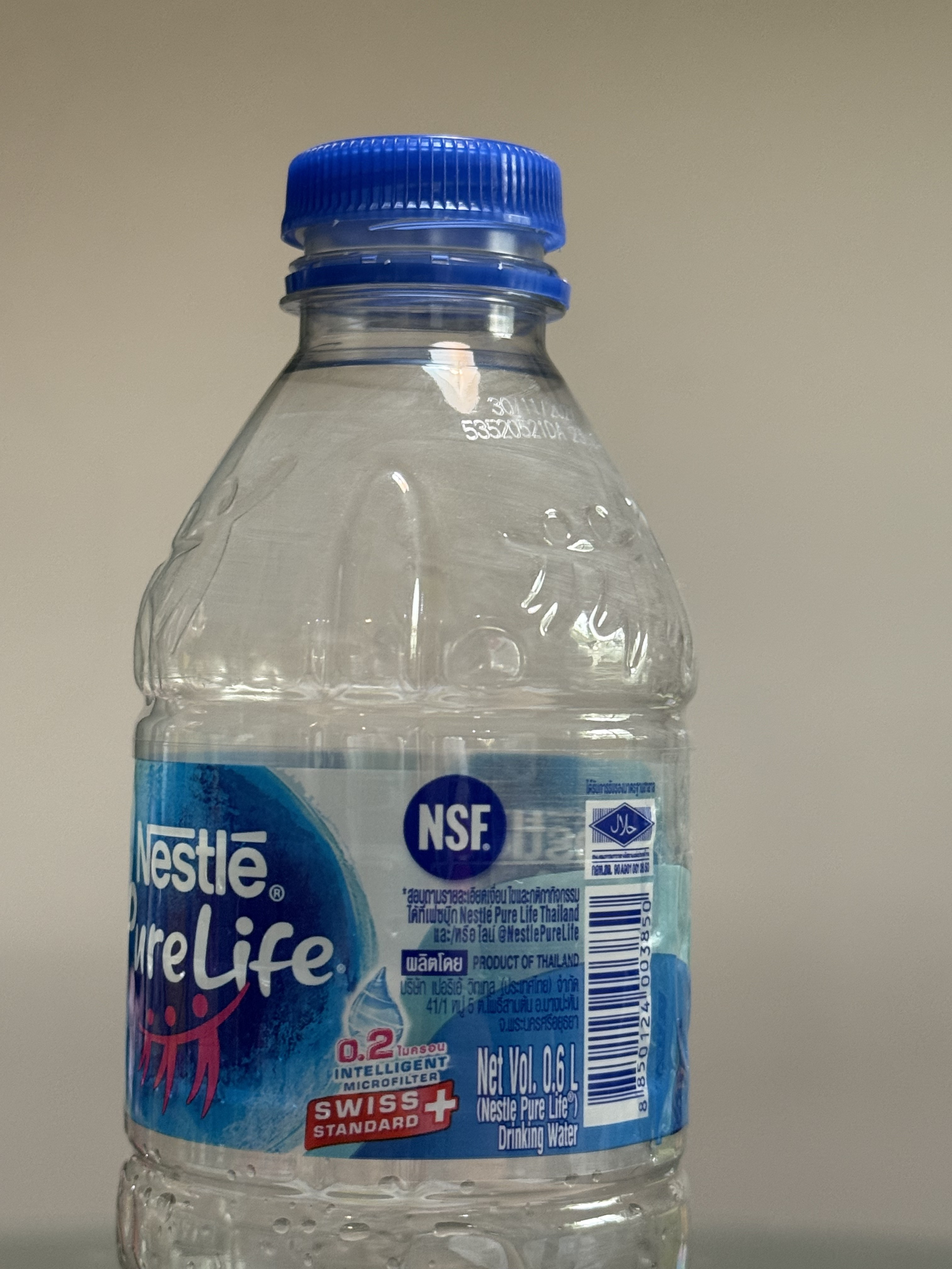half_cap: (268, 126, 578, 318)
